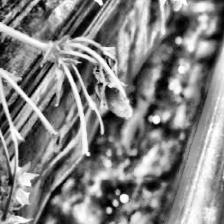Gray Mold: (98, 66, 132, 118)
